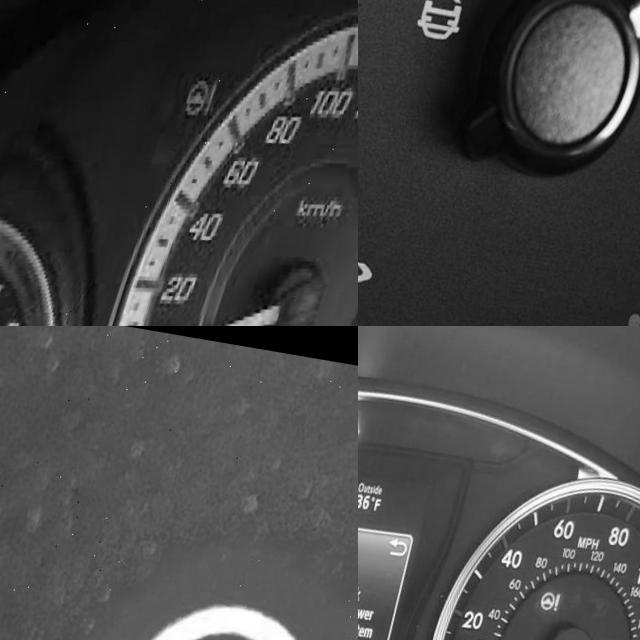Electronic Power Steering: (554, 570, 583, 598)
Electronic Power Steering Warning: (183, 65, 225, 114)
